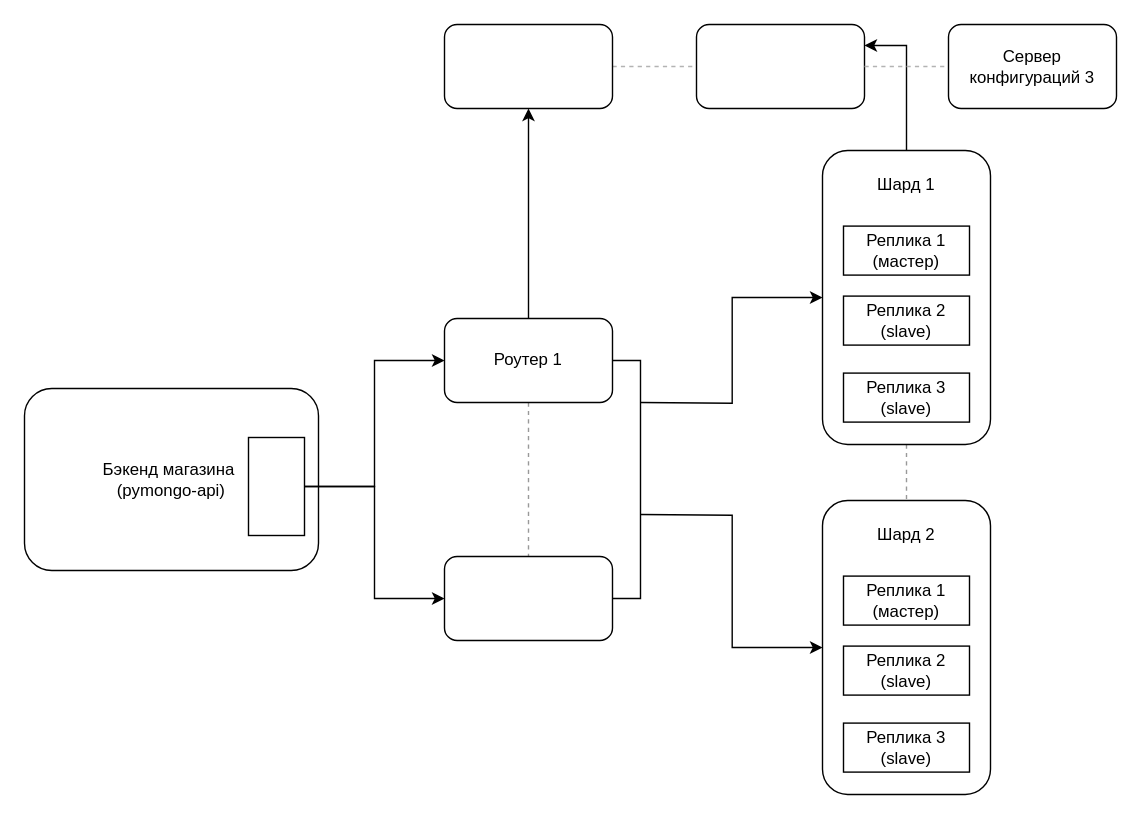
The diagram is 1141 pixels wide and 819 high, and some of its shapes have lost their labels. The shapes that lost their labels are listed below. From the top down, each one's centre as x and y in pixels, then its label:
At point (527, 65): "Сервер конфигураций 1".
At point (779, 65): "Сервер конфигураций 2".
At point (275, 486): "Драйвер".
At point (527, 597): "Роутер 2".
